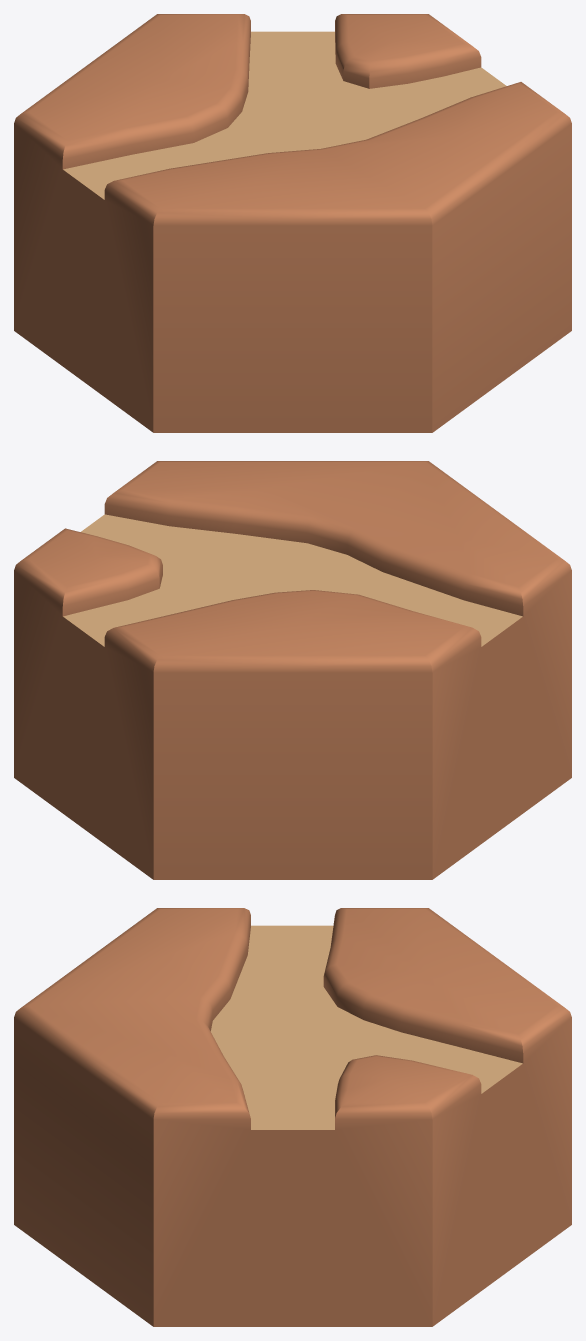
Rendered from hex_rock_roadF.glb.
3 renders of one model, top to bottom at view 1: azimuth 30°, elevation 25°; view 2: azimuth 150°, elevation 25°; view 3: azimuth 270°, elevation 25°, orthographic.
Parts seen in each view (by area): view 1: hex_rock_roadF; view 2: hex_rock_roadF; view 3: hex_rock_roadF.
Part boxes in pixels (bbox=[...]): hex_rock_roadF: bbox=[14, 14, 571, 432]; hex_rock_roadF: bbox=[14, 461, 571, 879]; hex_rock_roadF: bbox=[14, 908, 571, 1326].
Size of the model in its own units: 2 by 1 by 2.31.
